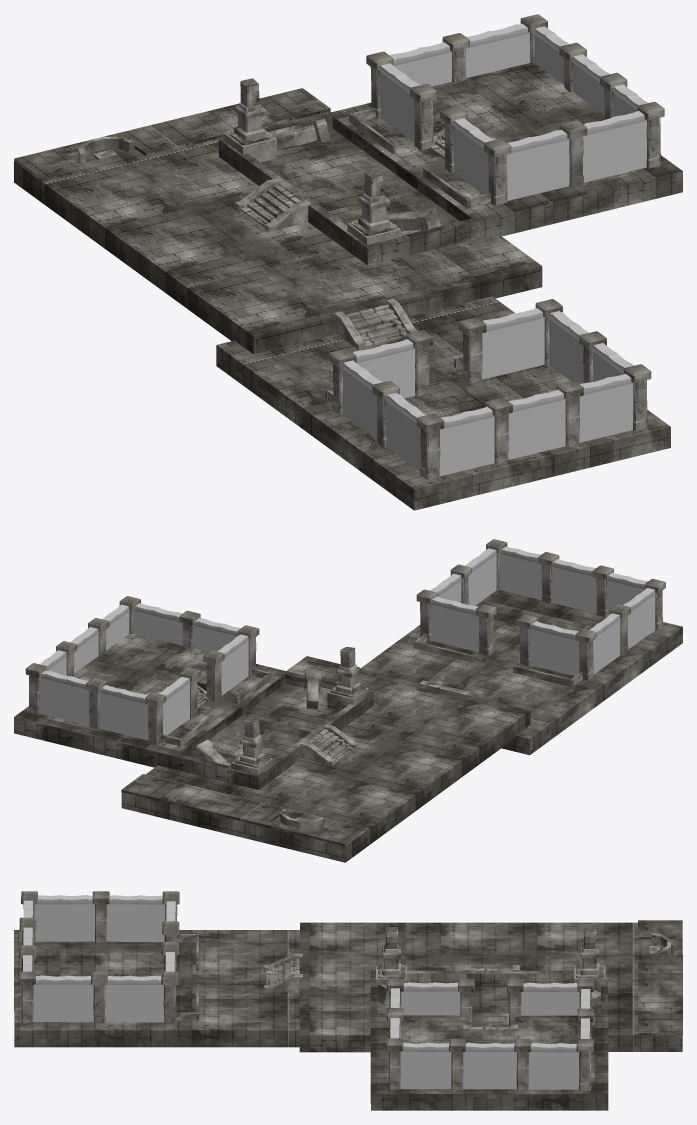
Rendered from Level5.fbx.
The picture shows the model from 3 angles, top to bottom: view 1: azimuth 30°, elevation 25°; view 2: azimuth 150°, elevation 25°; view 3: azimuth 270°, elevation 25°; orthographic projection. The views are drawn at different scales.
Parts seen in each view (by area): view 1: Base6, Base7, Base1, Base2, Base8, Wall9 (×2), Wall2 (×2), Wall6 (×2), Wall10 (×2), Wall8 (×2), Wall5 (×2), Wall (×2) (+18 smaller); view 2: Base6, Base7, Base1, Base2, Base8, Wall4 (×2), Wall5 (×2), Wall2 (×2), Wall9 (×2), Wall10 (×2), Wall (×2), Wall6 (×2) (+17 smaller); view 3: Base6, Base7, Base1, Base8, Base2, Wall4, Wall9, Wall, Wall6, Wall10, Wall7, Wall8 (+15 smaller).
Boxes of the visible parts, x1=… form: Base6: x1=14, y1=111, x2=542, y2=354; Base7: x1=216, y1=296, x2=670, y2=510; Base1: x1=219, y1=102, x2=682, y2=265; Base2: x1=432, y1=63, x2=606, y2=142; Base8: x1=14, y1=88, x2=330, y2=181; Wall9 (×2): x1=385, y1=111, x2=646, y2=471; Wall2 (×2): x1=378, y1=63, x2=545, y2=379; Wall6 (×2): x1=341, y1=130, x2=569, y2=439; Wall10 (×2): x1=508, y1=54, x2=609, y2=459; Wall8 (×2): x1=533, y1=26, x2=633, y2=442; Wall5 (×2): x1=353, y1=118, x2=494, y2=398; Wall (×2): x1=390, y1=42, x2=588, y2=383; Base6: x1=121, y1=656, x2=530, y2=862; Base7: x1=360, y1=590, x2=682, y2=755; Base1: x1=14, y1=664, x2=373, y2=789; Base2: x1=73, y1=633, x2=207, y2=695; Base8: x1=121, y1=774, x2=366, y2=846; Wall4 (×2): x1=39, y1=548, x2=497, y2=726; Wall5 (×2): x1=217, y1=621, x2=579, y2=695; Wall2 (×2): x1=159, y1=596, x2=479, y2=735; Wall9 (×2): x1=133, y1=588, x2=655, y2=649; Wall10 (×2): x1=70, y1=559, x2=596, y2=673; Wall (×2): x1=99, y1=573, x2=462, y2=740; Wall6 (×2): x1=193, y1=613, x2=621, y2=674; Base6: x1=299, y1=922, x2=682, y2=1052; Base7: x1=14, y1=930, x2=299, y2=1047; Base1: x1=370, y1=970, x2=608, y2=1110; Base8: x1=638, y1=920, x2=682, y2=1035; Base2: x1=401, y1=1015, x2=579, y2=1043; Wall4: x1=33, y1=975, x2=93, y2=1022; Wall9: x1=35, y1=895, x2=94, y2=941; Wall: x1=105, y1=975, x2=164, y2=1022; Wall6: x1=106, y1=895, x2=165, y2=941; Wall10: x1=463, y1=1042, x2=516, y2=1089; Wall7: x1=400, y1=1042, x2=451, y2=1089; Wall8: x1=528, y1=1043, x2=579, y2=1089.
Bounding box in the file's own units: 51.34 × 12.12 × 75.55.
